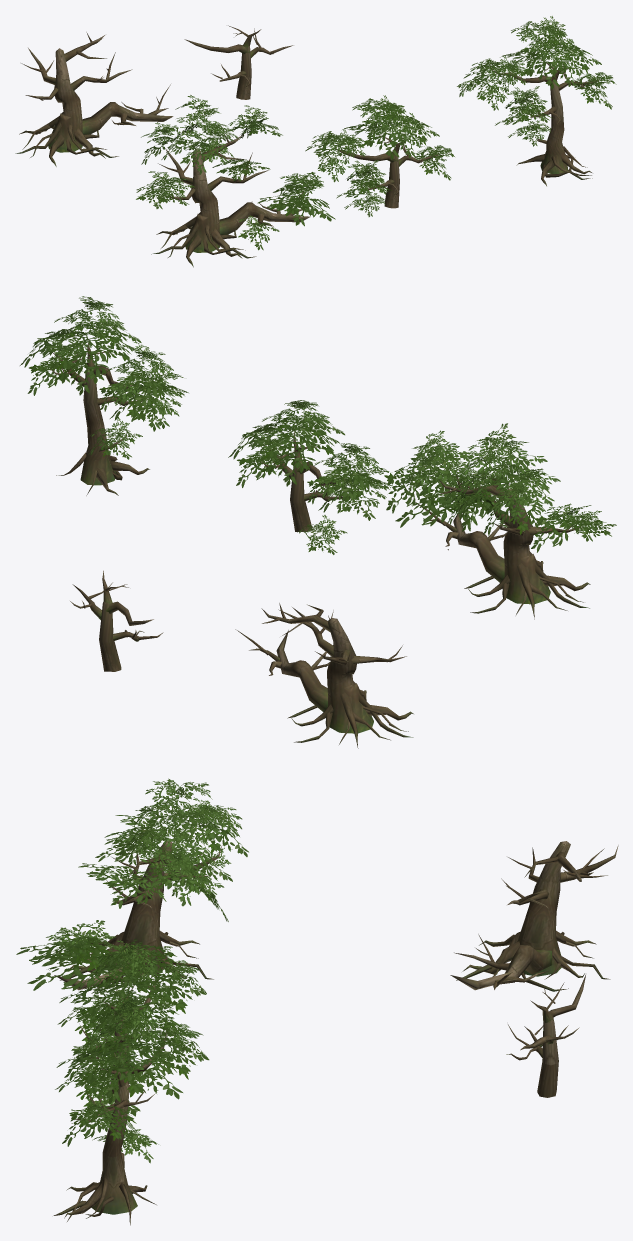
The model's file is ShuMu.FBX.
3 renders of one model, top to bottom at view 1: azimuth 30°, elevation 25°; view 2: azimuth 150°, elevation 25°; view 3: azimuth 270°, elevation 25°, orthographic. The views are drawn at different scales.
Parts seen in each view (by area): view 1: Object171, Object172, Object173, Object174, Object175; view 2: Object171, Object172, Object173, Object174, Object175; view 3: Object171, Object172, Object173, Object174, Object175.
Boxes of the visible parts, <box> form: Object171: <box>136,95,335,267</box>; Object172: <box>457,16,616,186</box>; Object173: <box>305,95,454,216</box>; Object174: <box>15,32,173,166</box>; Object175: <box>184,25,293,99</box>; Object171: <box>384,423,616,619</box>; Object172: <box>20,296,188,495</box>; Object173: <box>228,400,393,554</box>; Object174: <box>235,603,413,748</box>; Object175: <box>70,570,163,671</box>; Object171: <box>16,778,248,990</box>; Object172: <box>53,996,209,1225</box>; Object173: <box>57,939,206,1093</box>; Object174: <box>450,841,618,991</box>; Object175: <box>506,975,585,1097</box>.
Size of the model in its own units: 68.83 by 53.18 by 21.04.
